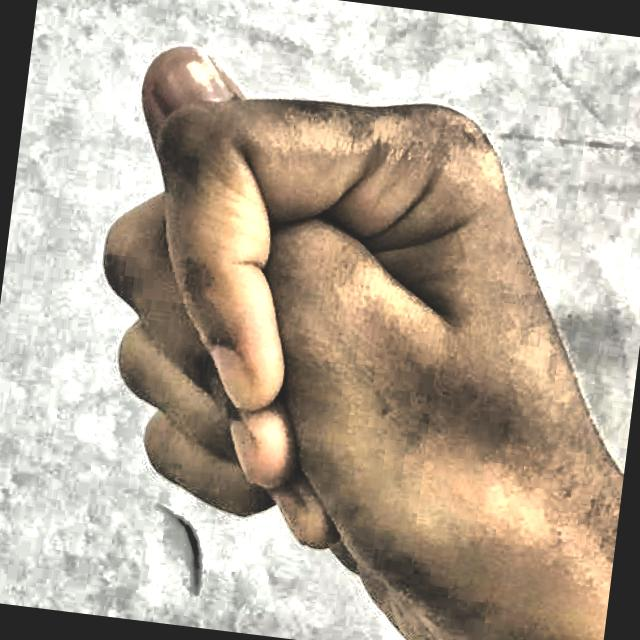Ta: (29, 0, 640, 640)
